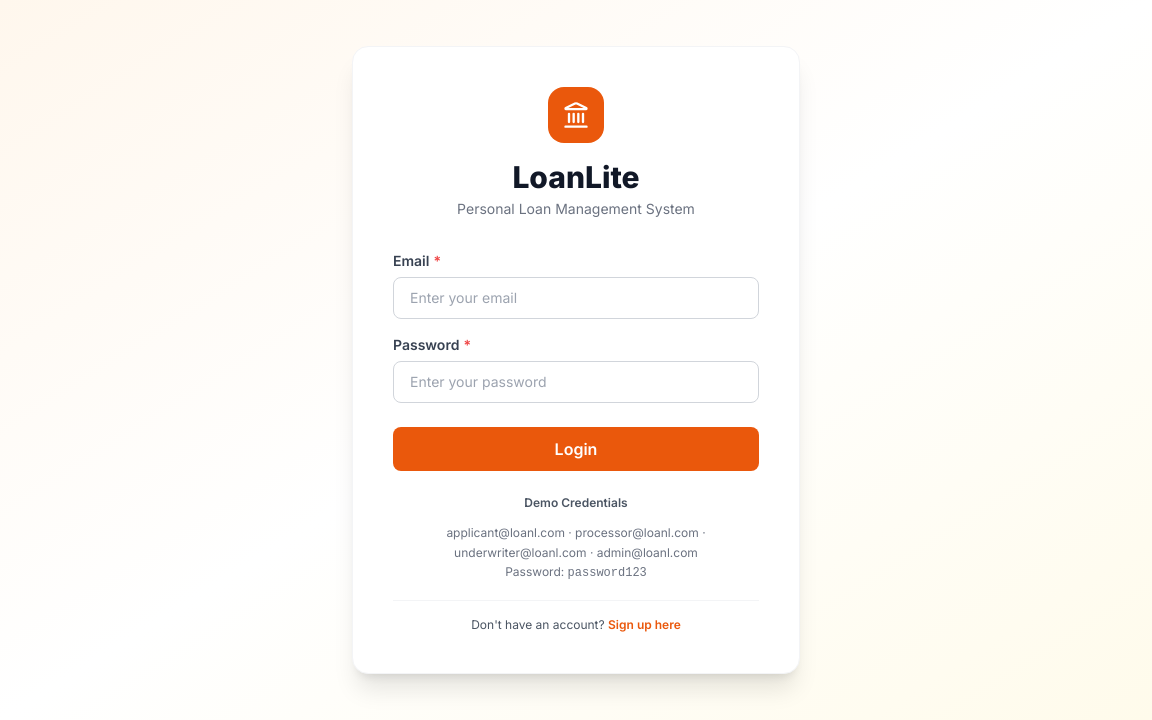
Login — error handling › shows a generic message on a network failure with no response object
The width and height of the screenshot is (1152, 720).
Type "a@b.com" into the field labelled "Email*" at (576, 298), box [393,277,759,319]
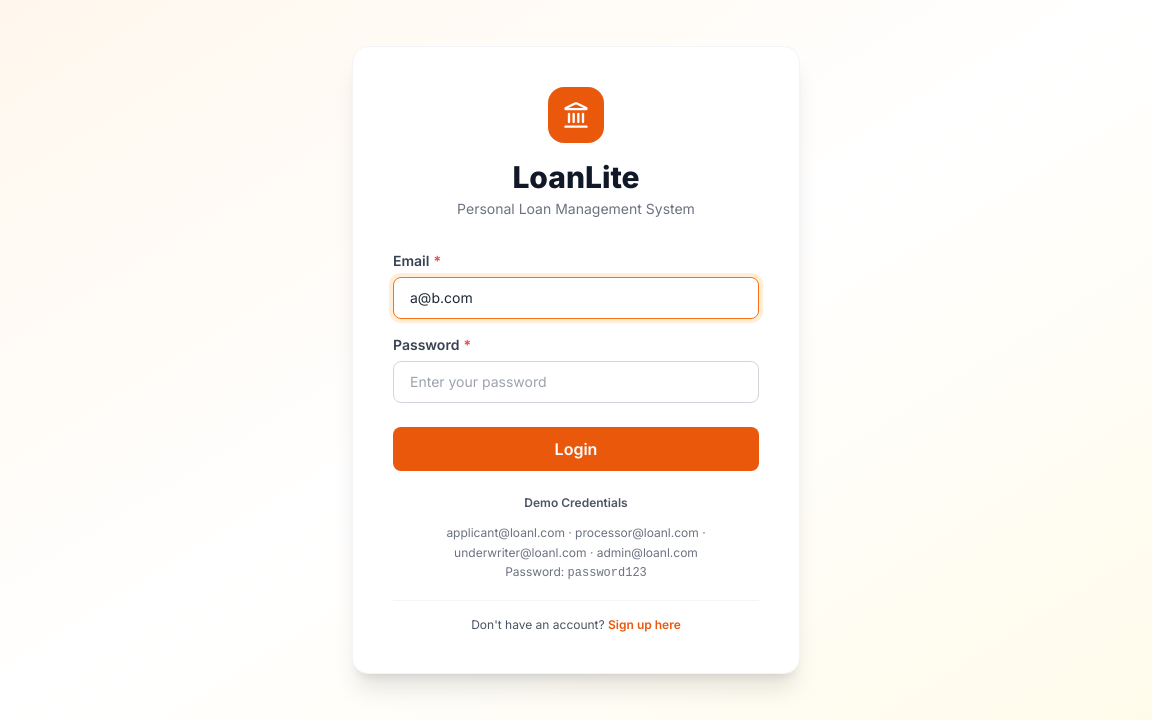
Type "password123" into the password field labelled "Password*" at (576, 382), box [393,361,759,403]
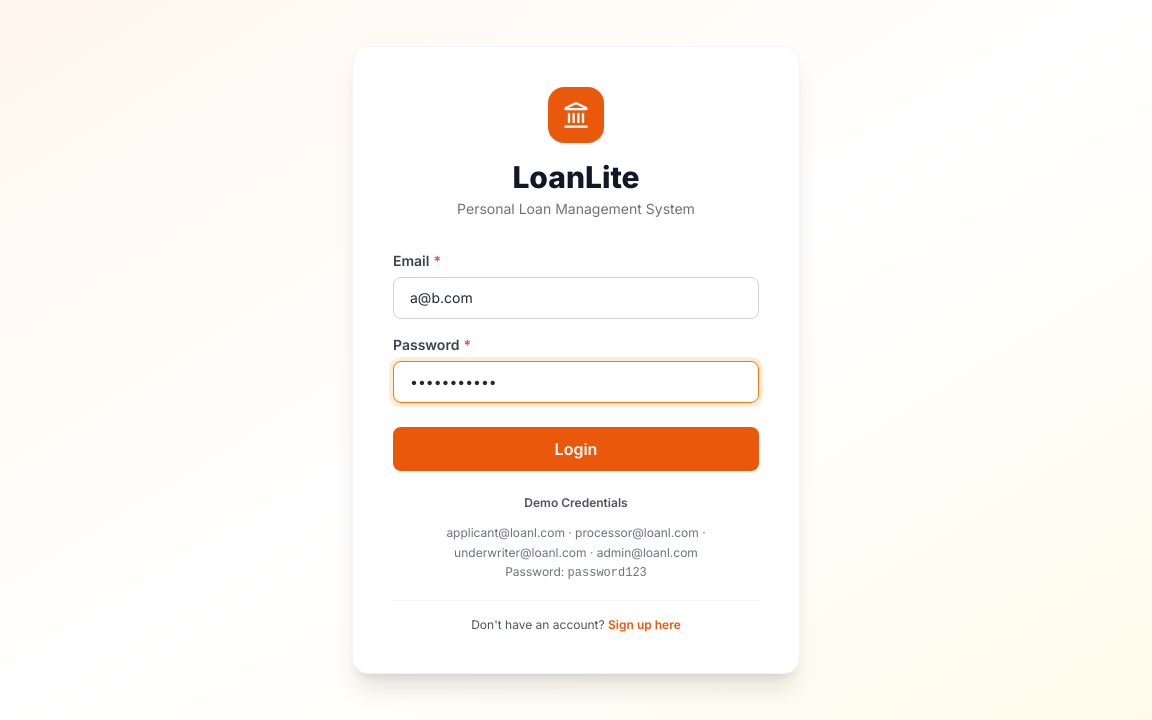
Click the button "Login" at (576, 449), box [393,427,759,471]
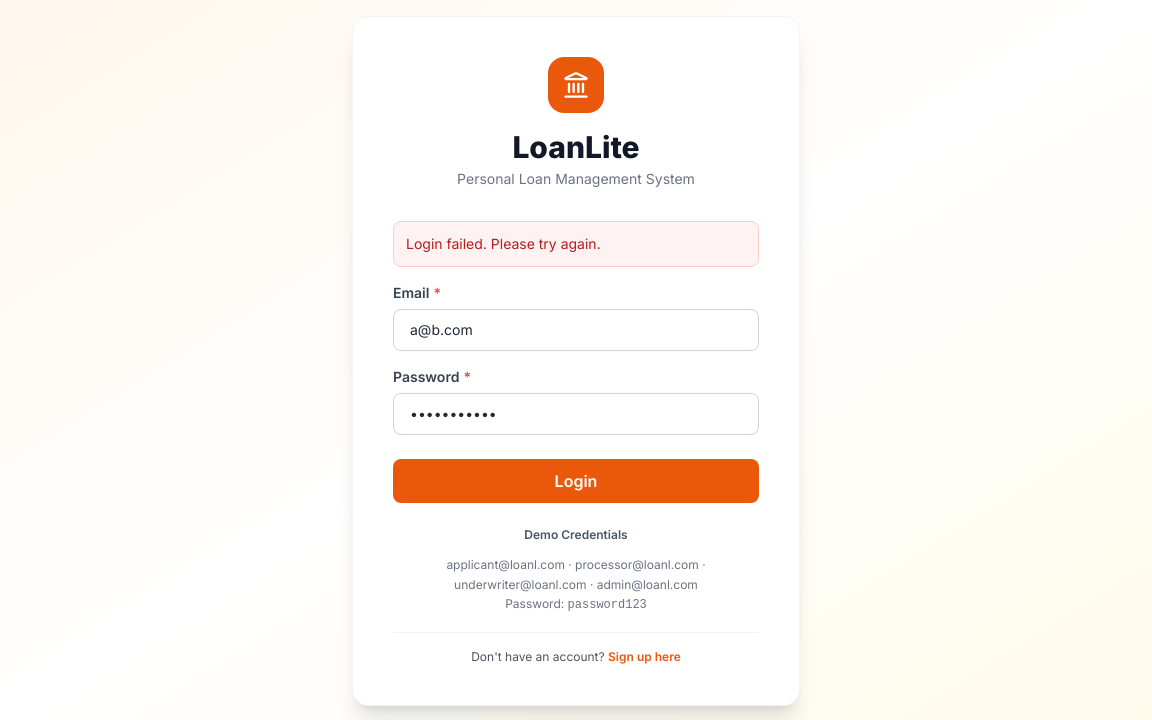
Now the text "Login failed. Please try again." is shown, box [393,221,759,267]
